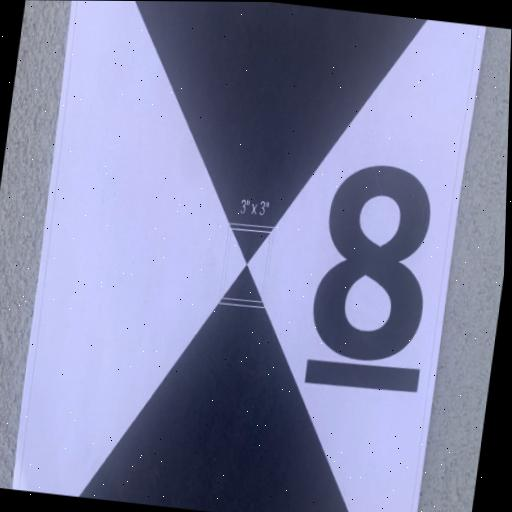target8: (4, 0, 482, 512)
